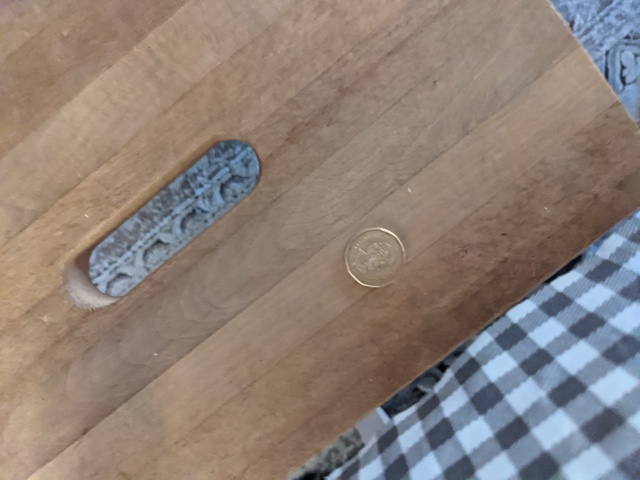loonie: (338, 220, 415, 291)
